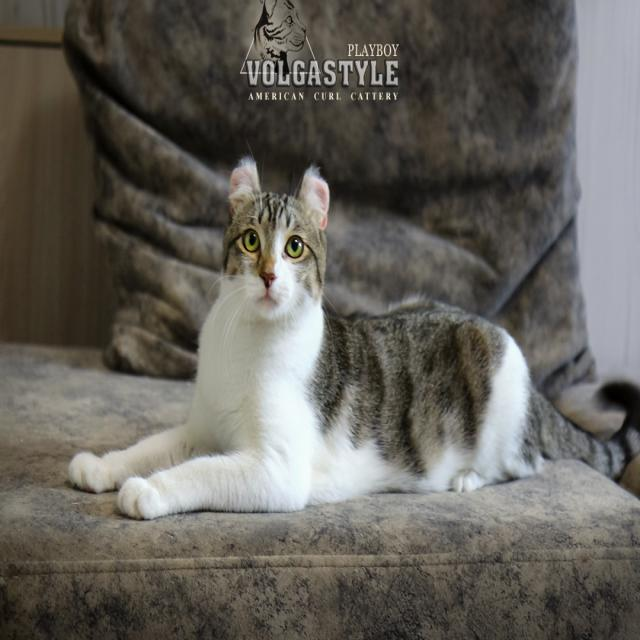American Curl: (62, 153, 640, 526)
